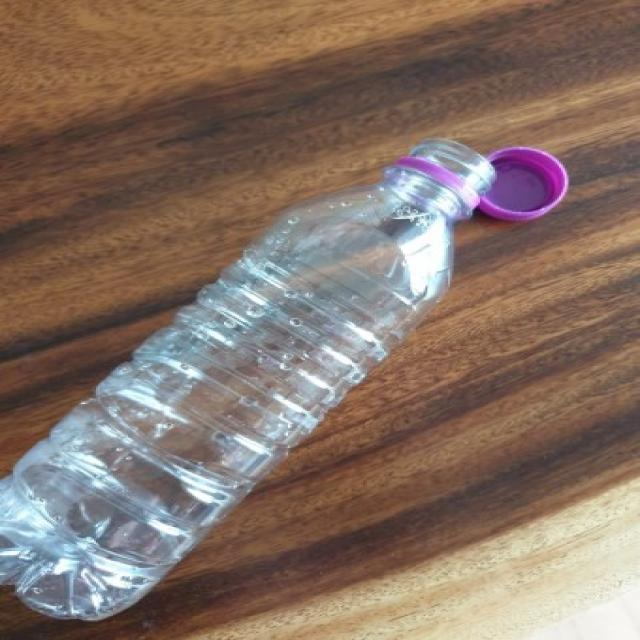plastic bottle: (2, 136, 499, 622)
